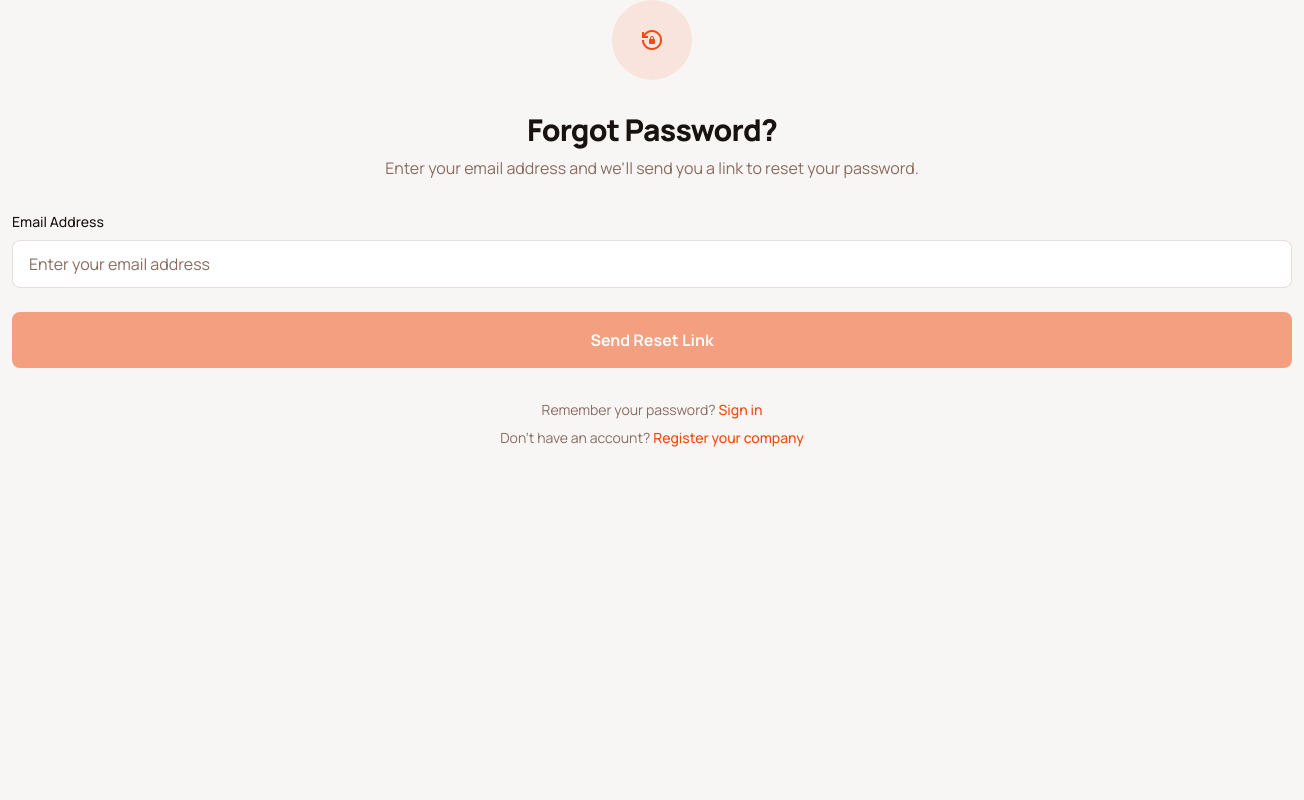
Test: ForgotPasswordPage (SOUPFIN-186) › shows the backend sentence for a 400 EMAIL_INVALID
Type "jane@acme.com" into the field with test id "forgot-password-email-input".
click(652, 264); type("jane@acme.com")  # box [12,240,1292,288]
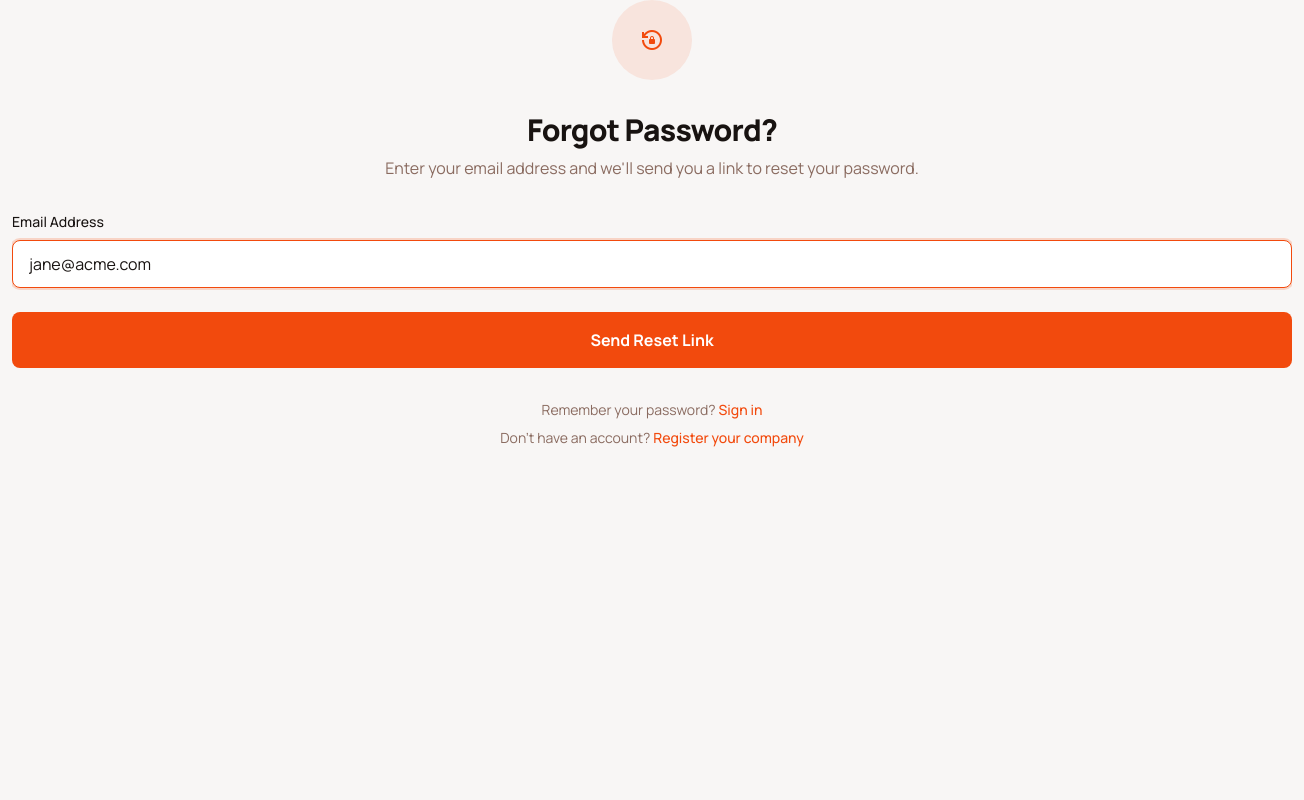
Click the button with test id "forgot-password-submit-button".
click(652, 340)  # box [12,312,1292,368]
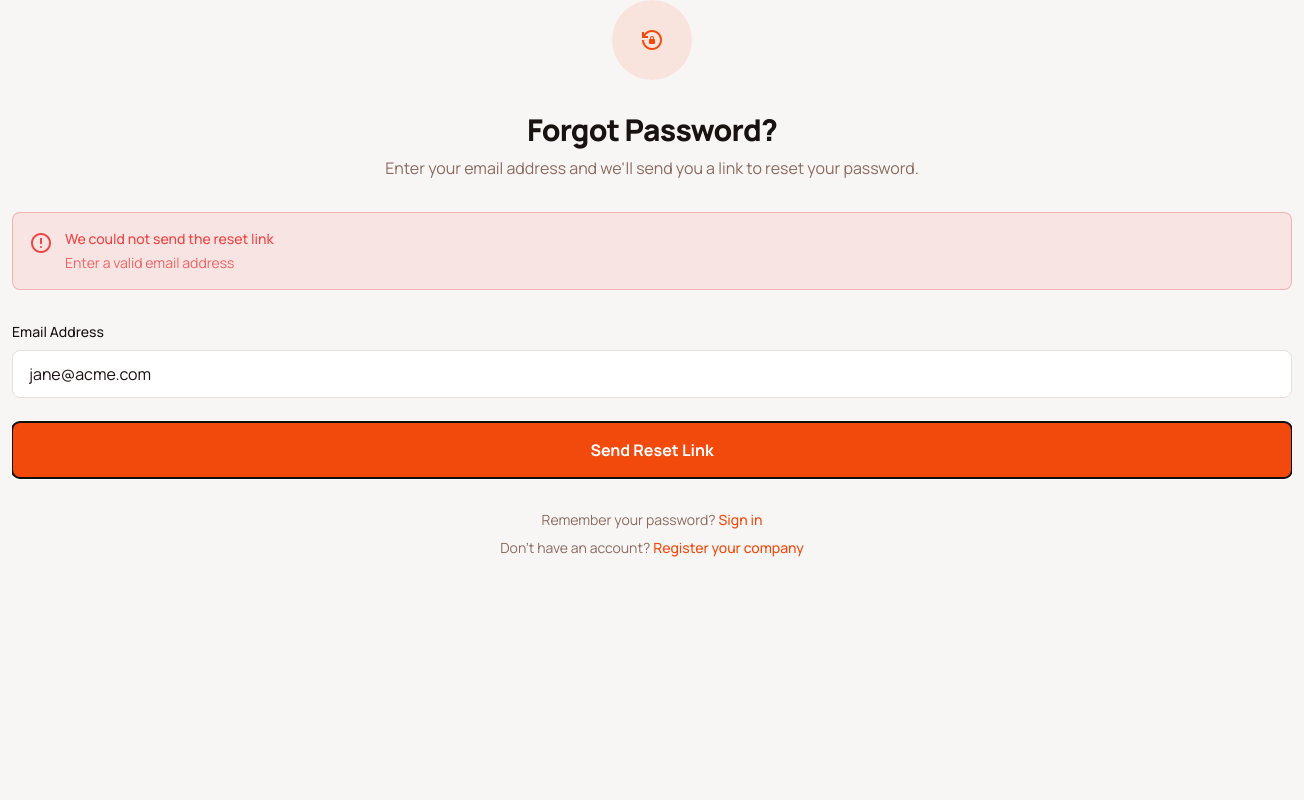
Result: the text with test id "forgot-password-error-message" reads "Enter a valid email address" at [65,253,234,272]
